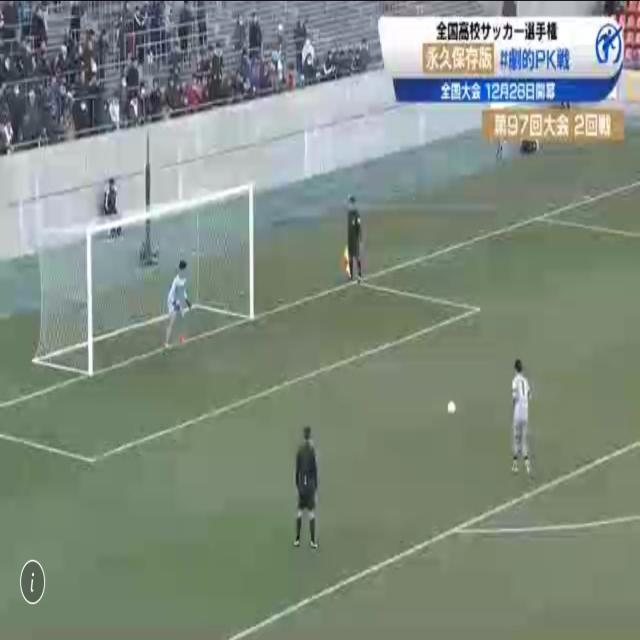right-top: (168, 184, 250, 215)
soccer-goal: (90, 184, 252, 375)
